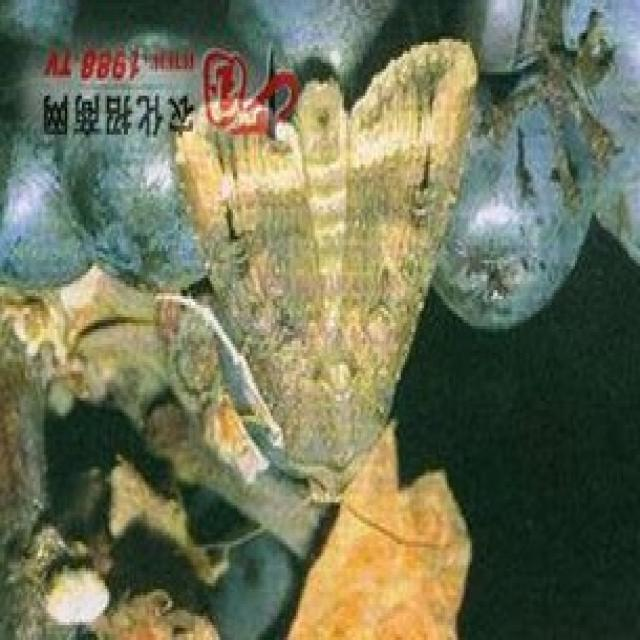black cutworm: (147, 40, 480, 524)
